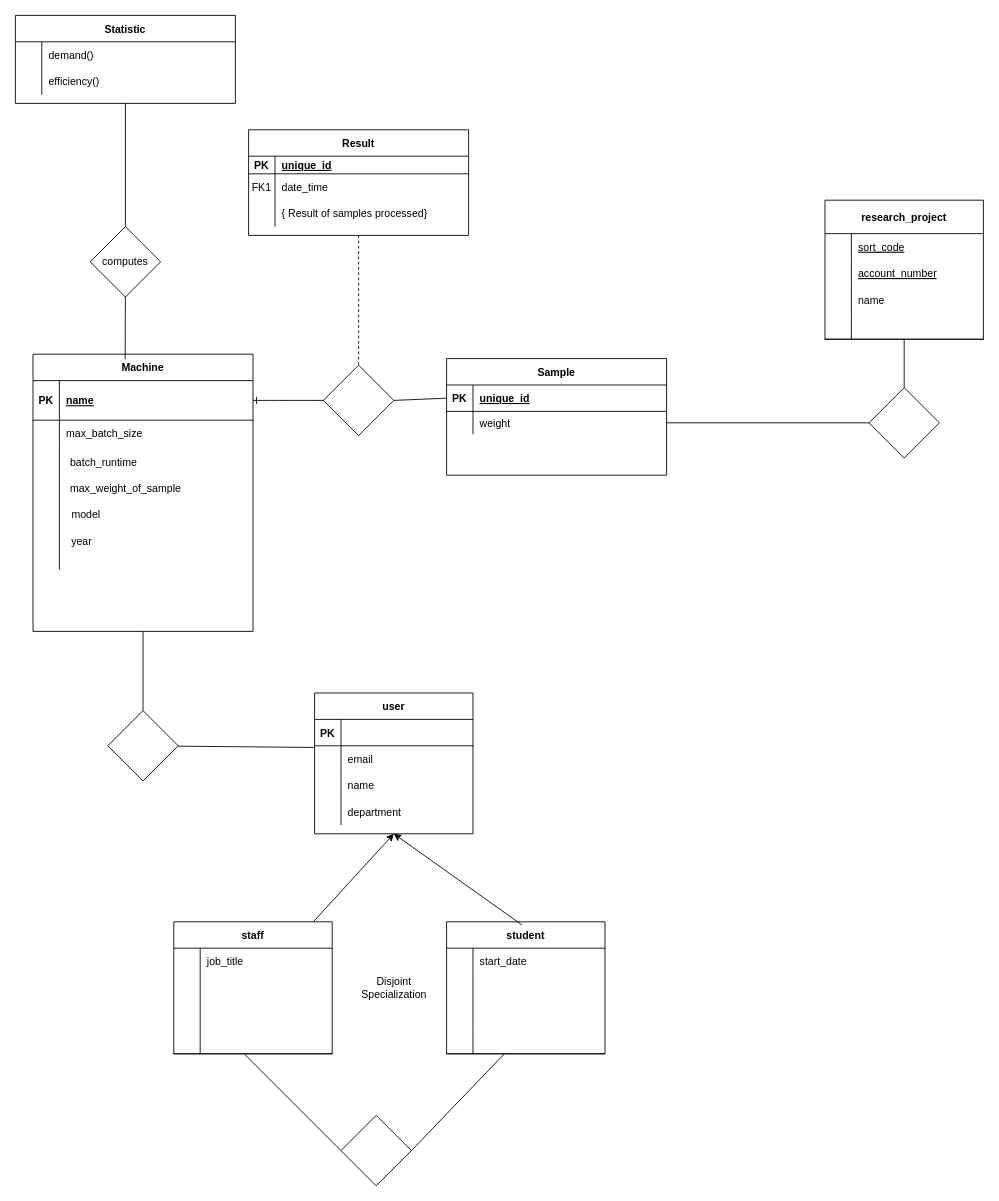
Image size: 999x1201. Some labels were removed from this diagram. The centre of each missing label's shape, as x and y in pixels:
"analysed" belongs at point (358, 400).
"belongs_to" belongs at point (903, 422).
"Supervises" belongs at point (375, 1150).
"used_by" belongs at point (142, 745).
